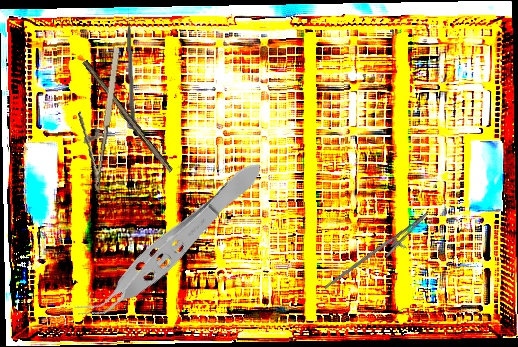Needle Holder: (323, 200, 435, 309), (65, 43, 125, 192)
Pusher: (125, 5, 137, 125)
Scalpel Handle: (79, 59, 175, 175)
Tissue Forceps: (70, 150, 273, 338)
